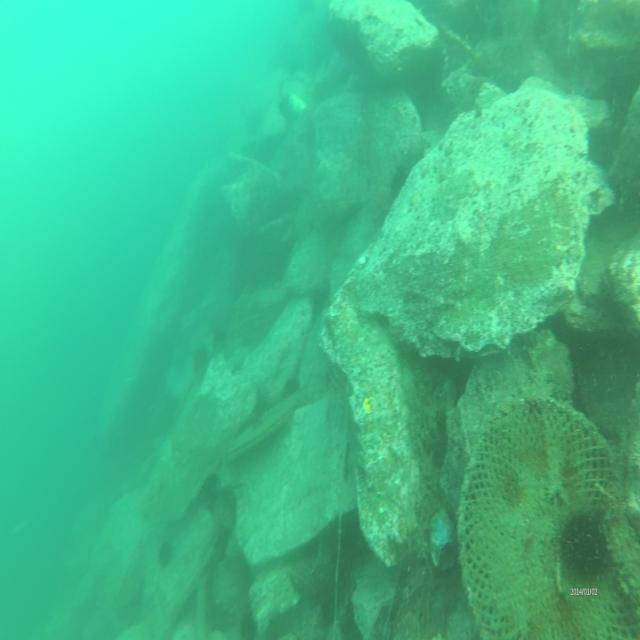echinus: (560, 501, 610, 590), (385, 157, 412, 200), (192, 350, 210, 381), (156, 546, 174, 570)
